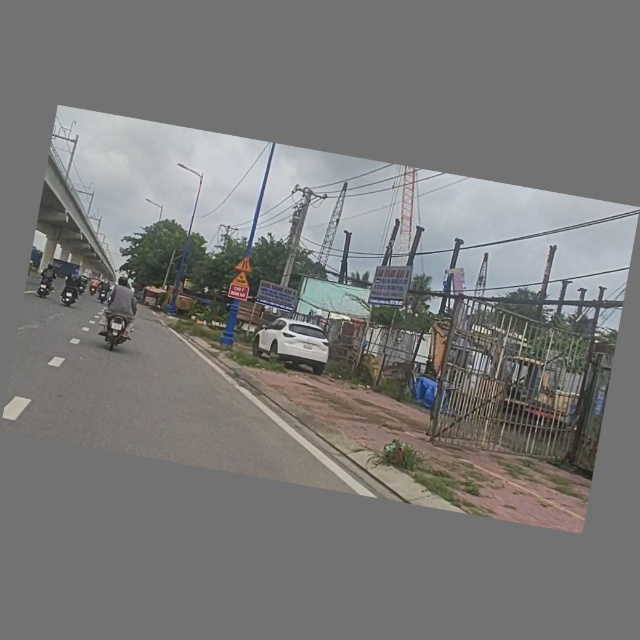W.203c: (234, 255, 256, 273)
W.245a: (231, 270, 253, 289)
